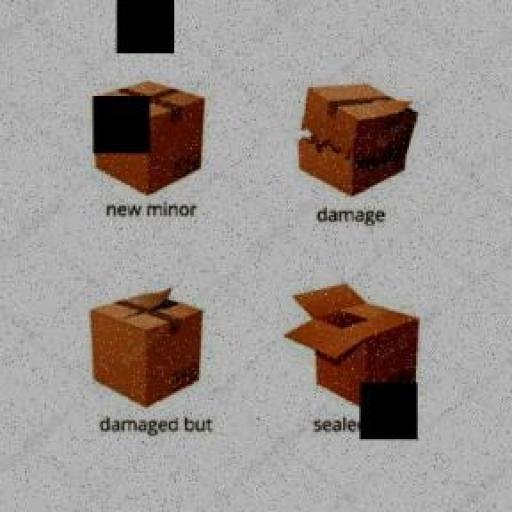box: (284, 278, 442, 415), (85, 280, 233, 417), (291, 74, 424, 204), (85, 73, 219, 199)
